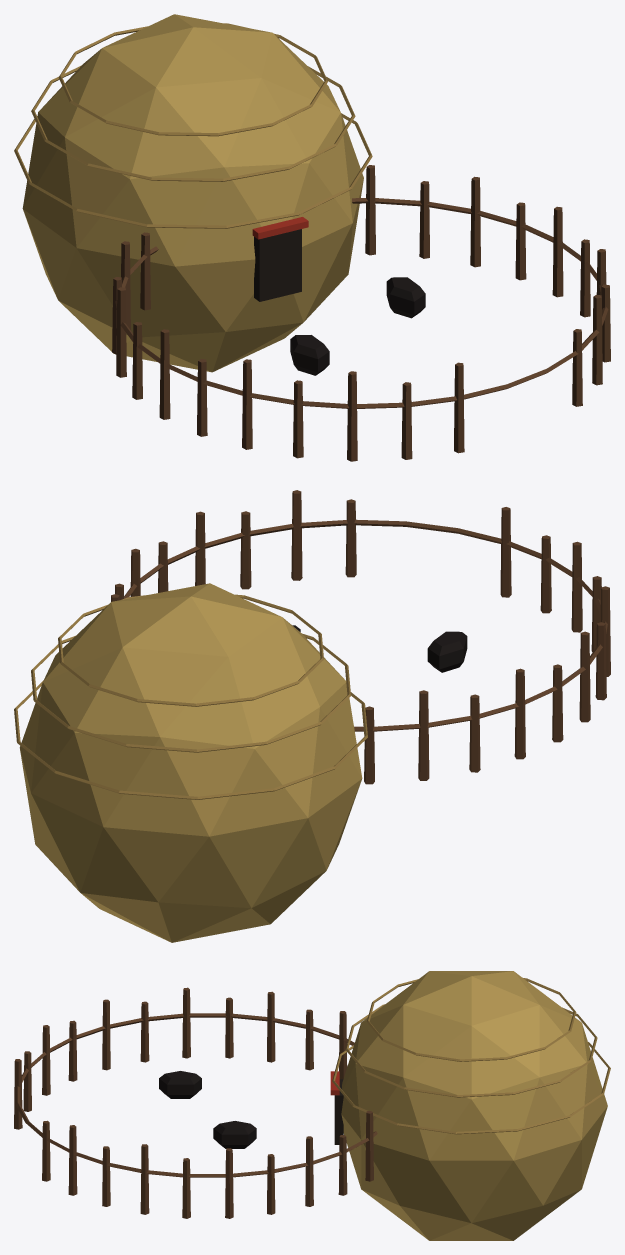
File: elephant_landmark_broken.glb
3 renders of one model, top to bottom at view 1: azimuth 30°, elevation 25°; view 2: azimuth 150°, elevation 25°; view 3: azimuth 270°, elevation 25°, orthographic. The views are drawn at different scales.
Parts seen in each view (by area): view 1: elephant_landmark_piece4, elephant_landmark_piece2, elephant_landmark_piece1, elephant_landmark_piece0, elephant_landmark_piece5, elephant_landmark_piece6, elephant_landmark_piece3, elephant_landmark_piece11, elephant_landmark_piece9, elephant_landmark_piece8, elephant_landmark_piece10, elephant_landmark_piece12; view 2: elephant_landmark_piece0, elephant_landmark_piece13, elephant_landmark_piece1, elephant_landmark_piece6, elephant_landmark_piece2, elephant_landmark_piece8, elephant_landmark_piece9, elephant_landmark_piece11, elephant_landmark_piece4, elephant_landmark_piece7, elephant_landmark_piece3; view 3: elephant_landmark_piece6, elephant_landmark_piece3, elephant_landmark_piece4, elephant_landmark_piece13, elephant_landmark_piece5, elephant_landmark_piece8, elephant_landmark_piece10, elephant_landmark_piece11, elephant_landmark_piece1, elephant_landmark_piece7, elephant_landmark_piece9, elephant_landmark_piece0.
Boxes of the visible parts, x1=… form: elephant_landmark_piece4: x1=114, y1=43, x2=368, y2=257; elephant_landmark_piece2: x1=40, y1=221, x2=279, y2=372; elephant_landmark_piece1: x1=31, y1=82, x2=208, y2=399; elephant_landmark_piece0: x1=14, y1=14, x2=175, y2=266; elephant_landmark_piece5: x1=237, y1=153, x2=375, y2=349; elephant_landmark_piece6: x1=130, y1=14, x2=367, y2=145; elephant_landmark_piece3: x1=346, y1=149, x2=568, y2=297; elephant_landmark_piece11: x1=150, y1=329, x2=356, y2=458; elephant_landmark_piece9: x1=290, y1=335, x2=559, y2=461; elephant_landmark_piece8: x1=395, y1=239, x2=610, y2=406; elephant_landmark_piece10: x1=278, y1=150, x2=383, y2=341; elephant_landmark_piece12: x1=386, y1=277, x2=411, y2=312; elephant_landmark_piece0: x1=96, y1=632, x2=362, y2=899; elephant_landmark_piece13: x1=17, y1=667, x2=194, y2=903; elephant_landmark_piece1: x1=275, y1=614, x2=574, y2=780; elephant_landmark_piece6: x1=14, y1=591, x2=240, y2=800; elephant_landmark_piece2: x1=123, y1=730, x2=374, y2=942; elephant_landmark_piece8: x1=145, y1=490, x2=387, y2=631; elephant_landmark_piece9: x1=385, y1=507, x2=582, y2=672; elephant_landmark_piece11: x1=463, y1=541, x2=610, y2=722; elephant_landmark_piece4: x1=129, y1=583, x2=362, y2=730; elephant_landmark_piece7: x1=24, y1=775, x2=131, y2=923; elephant_landmark_piece3: x1=111, y1=548, x2=147, y2=601; elephant_landmark_piece6: x1=412, y1=971, x2=567, y2=1171; elephant_landmark_piece3: x1=212, y1=1124, x2=517, y2=1229; elephant_landmark_piece4: x1=339, y1=971, x2=480, y2=1128; elephant_landmark_piece13: x1=546, y1=1020, x2=610, y2=1173; elephant_landmark_piece5: x1=330, y1=1060, x2=525, y2=1240; elephant_landmark_piece8: x1=32, y1=1120, x2=254, y2=1218; elephant_landmark_piece10: x1=364, y1=1122, x2=525, y2=1240; elephant_landmark_piece11: x1=42, y1=987, x2=208, y2=1081; elephant_landmark_piece1: x1=208, y1=971, x2=437, y2=1079; elephant_landmark_piece7: x1=482, y1=1167, x2=588, y2=1240; elephant_landmark_piece9: x1=14, y1=1045, x2=201, y2=1129; elephant_landmark_piece0: x1=478, y1=971, x2=597, y2=1054.
Size of the model in its own units: 4.27 by 3.15 by 6.56.
